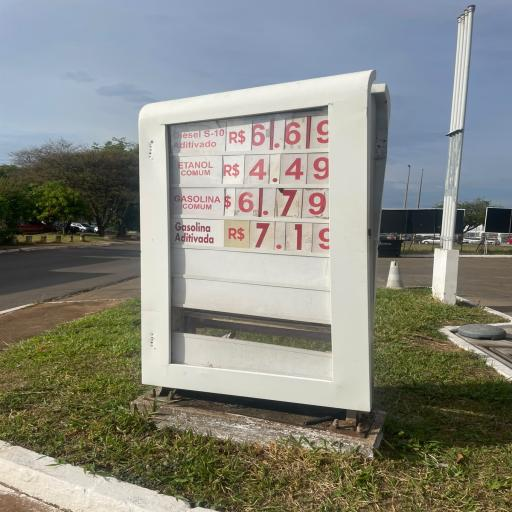ETANOL: (173, 157, 220, 180)
GASOLINA AD: (172, 219, 222, 248)
GASOLINA C: (173, 189, 223, 212)
S10: (171, 121, 227, 152)
placa: (167, 108, 331, 263)
preco: (248, 221, 330, 259), (235, 188, 328, 220), (250, 114, 327, 150), (241, 154, 327, 184)
